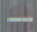No entry: (3, 0, 33, 31)
